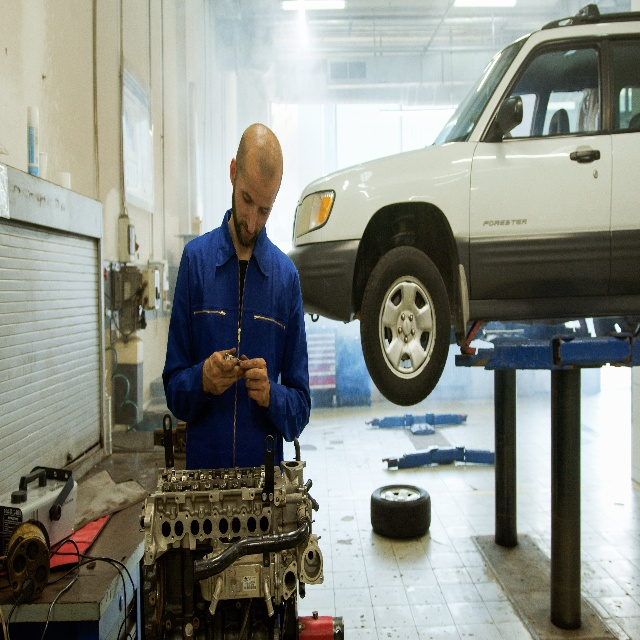Sin_guantes: (202, 345, 243, 395), (239, 352, 268, 407)
